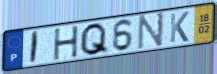6: (112, 17, 135, 53)
H: (52, 24, 80, 62)
I: (28, 29, 41, 65)
K: (168, 10, 190, 44)
N: (136, 11, 166, 51)
Q: (78, 21, 110, 57)
